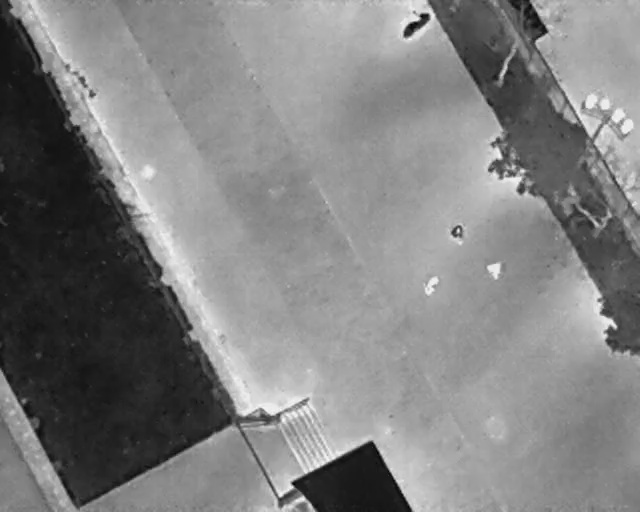Bicycle: (396, 7, 435, 43)
Person: (421, 275, 439, 295), (487, 261, 503, 281), (449, 224, 465, 244)
